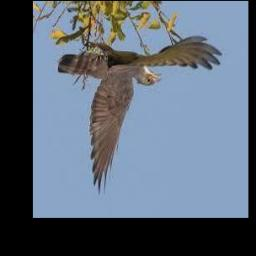Cuckoo: (57, 38, 221, 197)
